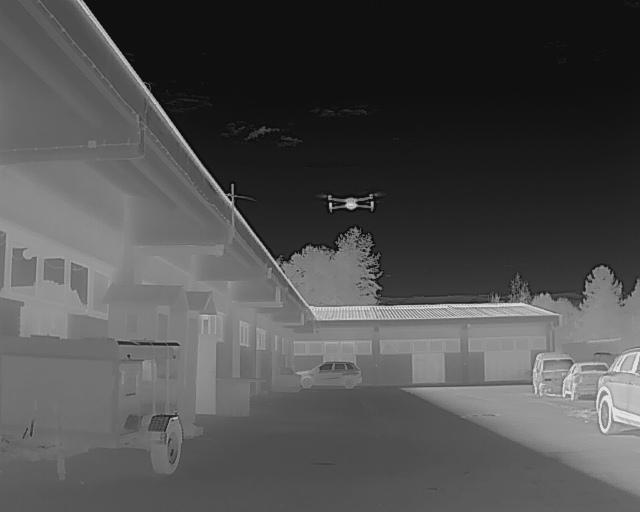drone: (312, 184, 390, 220)
